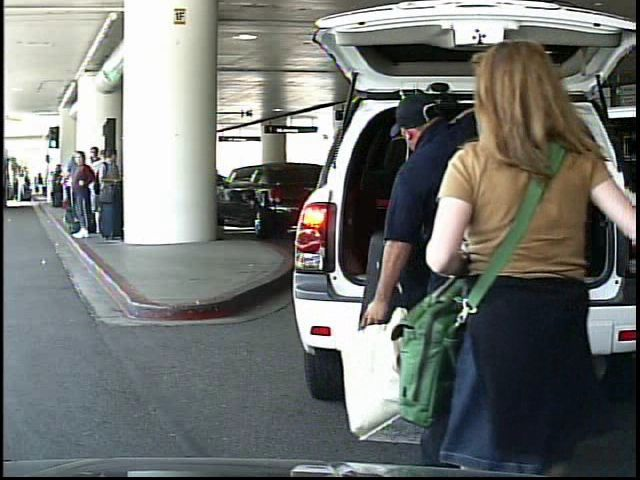person: (425, 51, 628, 471), (360, 90, 551, 462), (17, 174, 28, 205), (35, 172, 46, 199)
